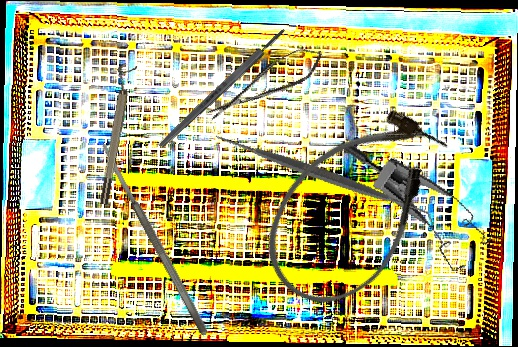Cannula: (238, 83, 471, 330)
Fixation Ring: (91, 62, 138, 206)
Micro Scissor: (200, 40, 330, 127)
Scalpel Handle: (156, 26, 288, 150)
Spatula Surgical: (212, 67, 434, 284), (97, 139, 211, 338)
Speculum: (317, 139, 506, 281)
